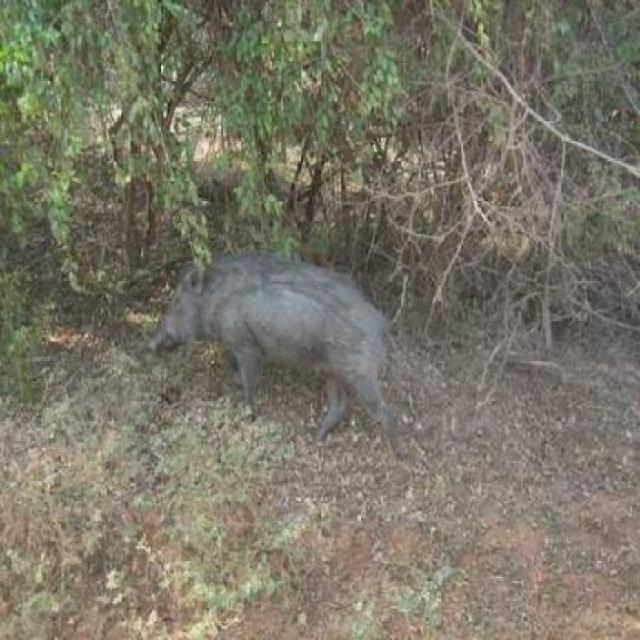pig: (137, 237, 421, 424)
